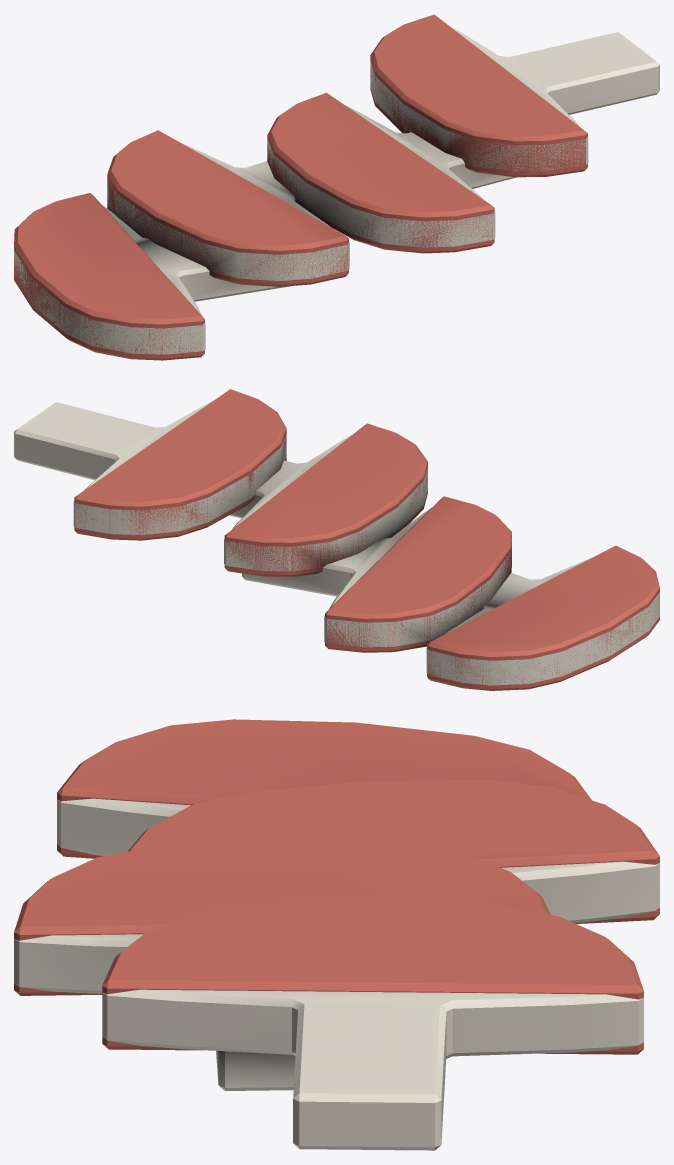
The model's file is prep_caps.glb.
The picture shows the model from 3 angles, top to bottom: view 1: azimuth 30°, elevation 25°; view 2: azimuth 150°, elevation 25°; view 3: azimuth 270°, elevation 25°; orthographic projection. The views are drawn at different scales.
Visible parts, largest first — view 1: PART; view 2: PART; view 3: PART.
Boxes of the visible parts, bbox=[...] form: PART: bbox=[14, 14, 659, 360]; PART: bbox=[14, 389, 659, 690]; PART: bbox=[14, 719, 659, 1150].
Size of the model in its own units: 0.1508 by 0.0282 by 0.081.
